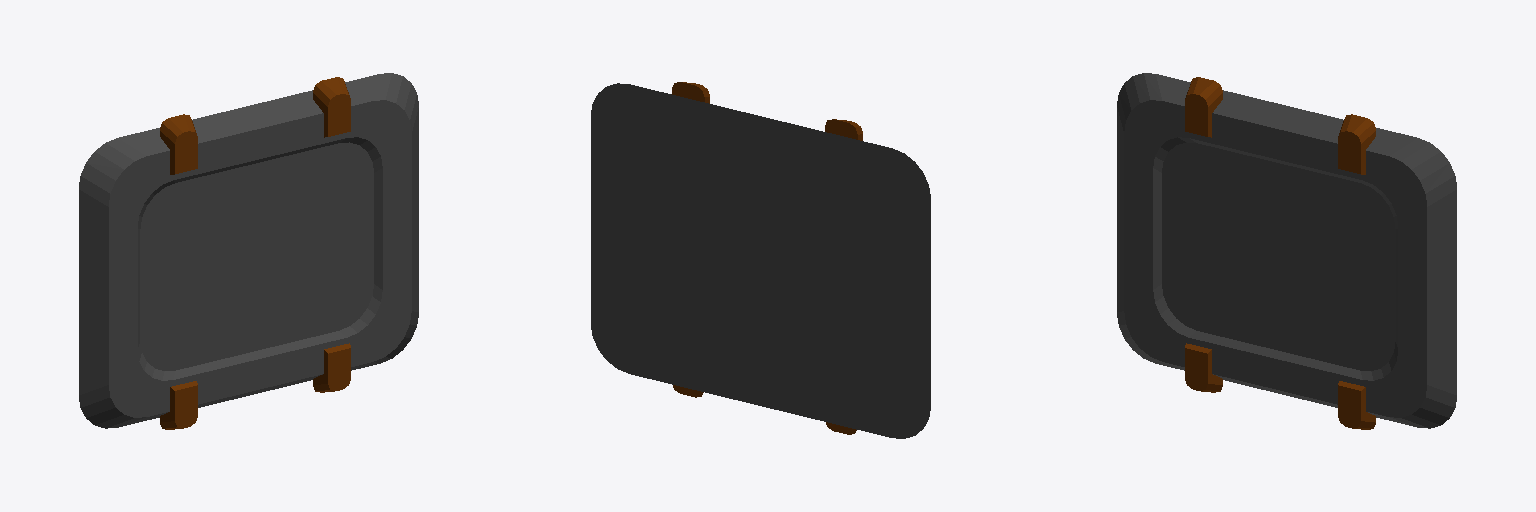
The model's file is Details_Plate_Small.obj.
3 renders of one model, left to right at view 1: azimuth 30°, elevation 25°; view 2: azimuth 150°, elevation 25°; view 3: azimuth 330°, elevation 25°, orthographic.
Parts seen in each view (by area): view 1: Details_Plate_Small_Cube.036; view 2: Details_Plate_Small_Cube.036; view 3: Details_Plate_Small_Cube.036.
Boxes of the visible parts, <box> form: Details_Plate_Small_Cube.036: <box>79,73,418,429</box>; Details_Plate_Small_Cube.036: <box>591,82,930,438</box>; Details_Plate_Small_Cube.036: <box>1117,73,1456,429</box>.
Bounding box in the file's own units: 0.396 × 0.3466 × 0.0287.